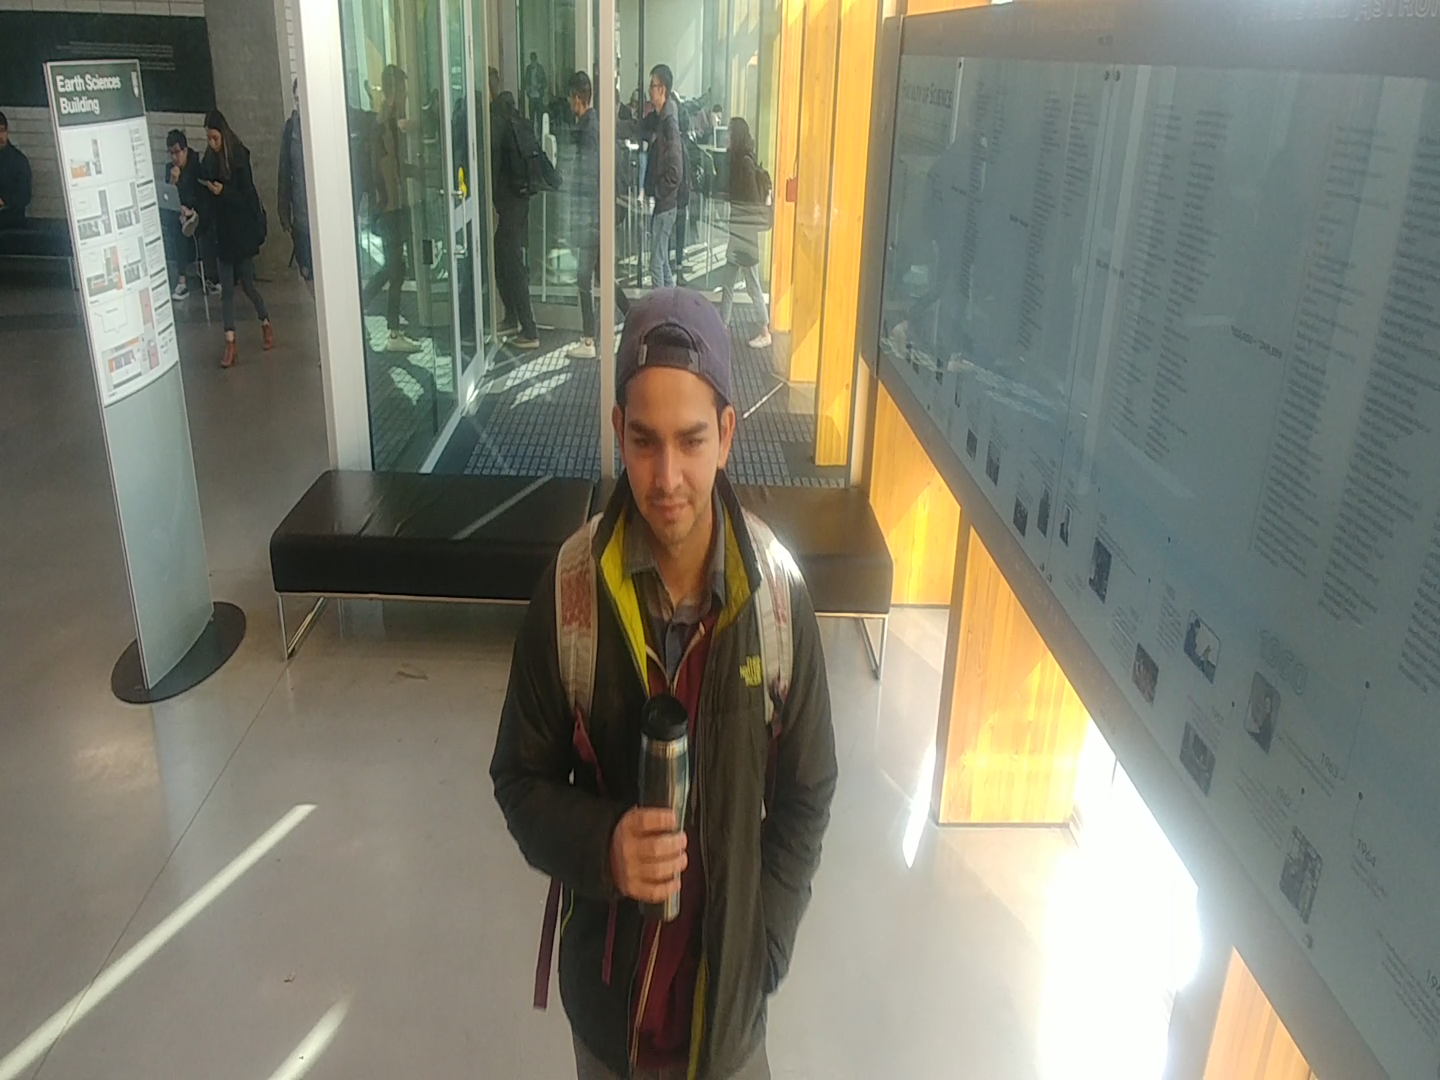face: (600, 279, 749, 562), (562, 55, 604, 125), (717, 109, 765, 168), (638, 55, 682, 119), (198, 106, 238, 161), (157, 119, 194, 171)
human: (478, 281, 857, 1080), (485, 56, 563, 377), (190, 100, 280, 373), (616, 59, 718, 291), (713, 114, 785, 354), (555, 60, 604, 381), (149, 123, 210, 298)
